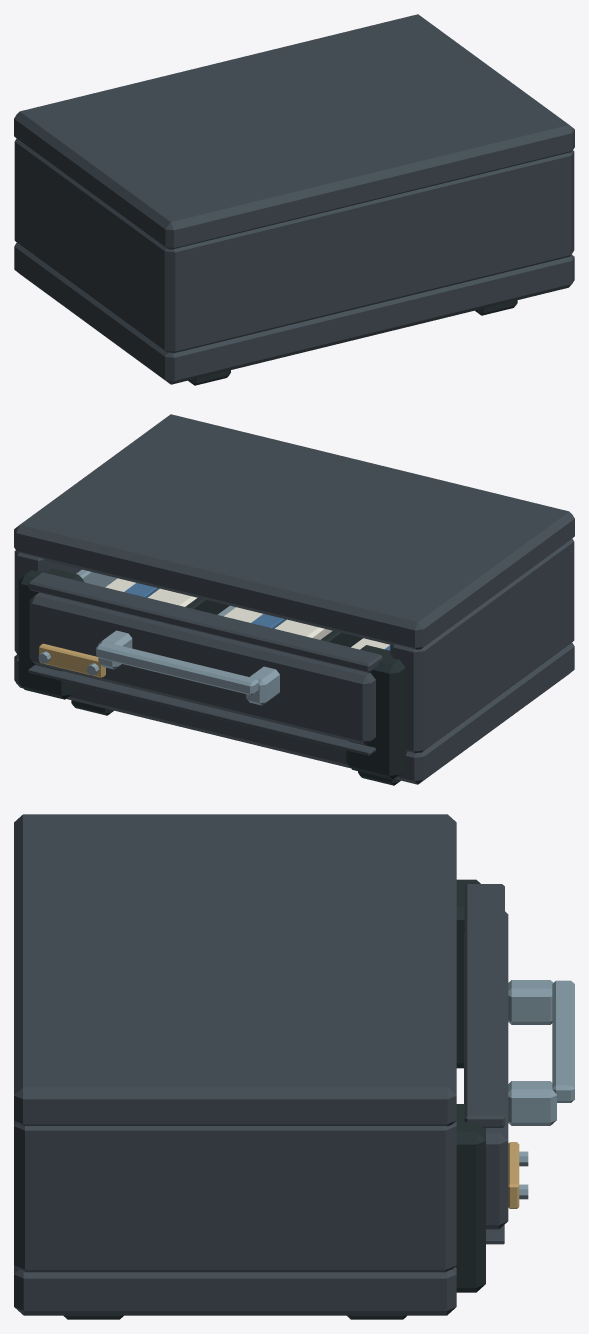
The model's file is currency_transport_case.glb.
3 views of the same model, one above another, from view 1: azimuth 30°, elevation 25°; view 2: azimuth 150°, elevation 25°; view 3: azimuth 270°, elevation 25° (orthographic). The views are drawn at different scales.
Parts seen in each view (by area): view 1: body_roof, body_back_wall, body_side_wall (×2), body_floor; view 2: body_roof, moving_drawer_face, body_side_wall (×2), body_floor, fixed_upper_fascia, fixed_armored_corner (×2), fixed_lower_fascia, moving_pull_grip, moving_banknote_stack (×2), moving_pull_mount (×2), moving_drawer_id_plate; view 3: body_roof, body_side_wall, body_floor, fixed_upper_fascia, fixed_armored_corner (×2), moving_pull_mount (×2), moving_drawer_face, moving_pull_grip, body_back_wall, moving_drawer_id_plate.
Part boxes in pixels (<box>): body_roof: <box>14,14,574,249</box>; body_back_wall: <box>153,153,571,352</box>; body_side_wall (×2): <box>14,138,574,353</box>; body_floor: <box>14,242,574,384</box>; body_roof: <box>14,414,574,649</box>; moving_drawer_face: <box>29,592,375,744</box>; body_side_wall (×2): <box>14,538,574,753</box>; body_floor: <box>14,642,574,784</box>; fixed_upper_fascia: <box>28,572,382,672</box>; fixed_armored_corner (×2): <box>18,568,407,779</box>; fixed_lower_fascia: <box>28,665,375,755</box>; moving_pull_grip: <box>96,641,258,695</box>; moving_banknote_stack (×2): <box>105,578,332,639</box>; moving_pull_mount (×2): <box>98,630,279,705</box>; moving_drawer_id_plate: <box>39,643,105,677</box>; body_roof: <box>14,814,456,1126</box>; body_side_wall: <box>14,1121,456,1272</box>; body_floor: <box>14,1265,456,1315</box>; fixed_upper_fascia: <box>464,884,504,1127</box>; fixed_armored_corner (×2): <box>455,879,485,1292</box>; moving_pull_mount (×2): <box>508,980,556,1125</box>; moving_drawer_face: <box>464,911,508,1229</box>; moving_pull_grip: <box>552,980,574,1102</box>; body_back_wall: <box>14,1120,58,1272</box>; moving_drawer_id_plate: <box>508,1142,519,1208</box>.
Bounding box in the file's own units: 1.02 × 0.44 × 0.8615.
